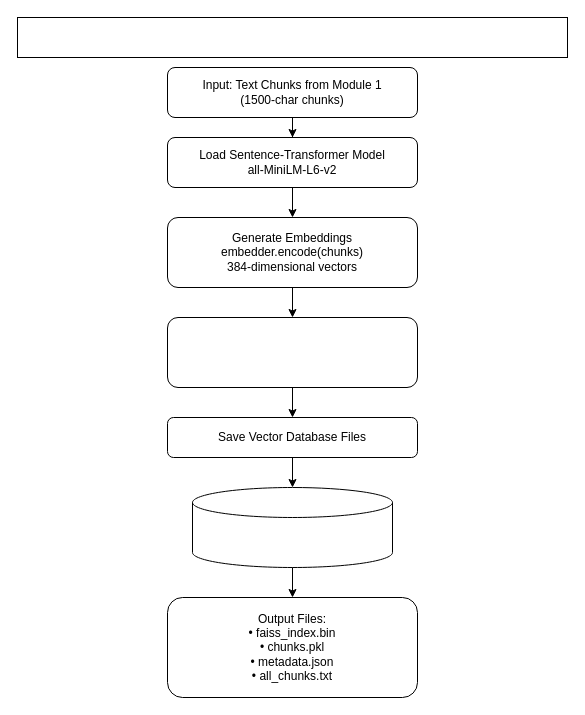
Some shapes in this 585 by 715 pixel diagram are drawn without their labels. The centre of each missing label's shape, as x and y in pixels:
Build FAISS Index IndexFlatL2(dimension=384) index.add(embeddings): (292,352)
MODULE 2: VECTOR DATABASE CONSTRUCTION (FAISS + SENTENCE-TRANSFORMERS): (292,37)
Vector Database Storage subjects/{subject_id}/vector_db/: (292,527)
